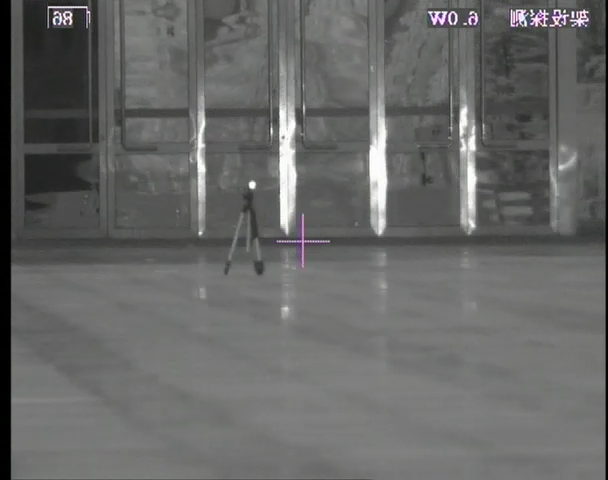my: (247, 179, 256, 190)
